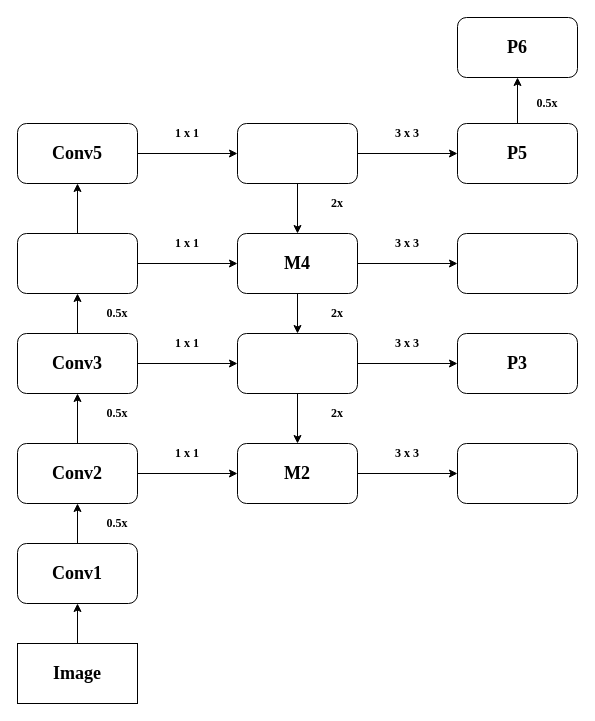
This 595x721 diagram has some shape labels left out. The shapes that lost their labels are listed below. From the top down, each one's box as (x1, y1, x2, y2) in pixels, then its label:
(236, 122, 358, 184): M5
(16, 232, 138, 294): Conv4
(456, 232, 578, 294): P4
(236, 332, 358, 394): M3
(456, 442, 578, 504): P2
